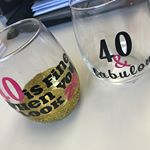cups: (1, 15, 83, 126), (67, 1, 149, 87)
